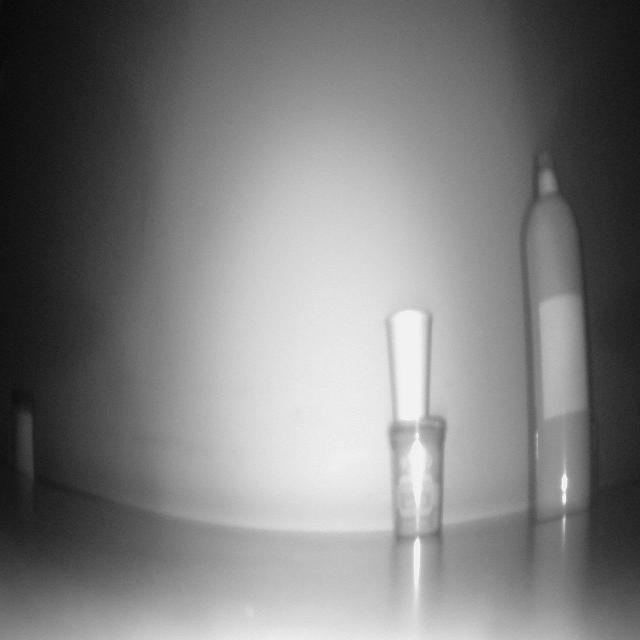targets: (522, 150, 595, 525), (388, 422, 446, 544), (384, 308, 436, 422), (9, 406, 36, 480)
